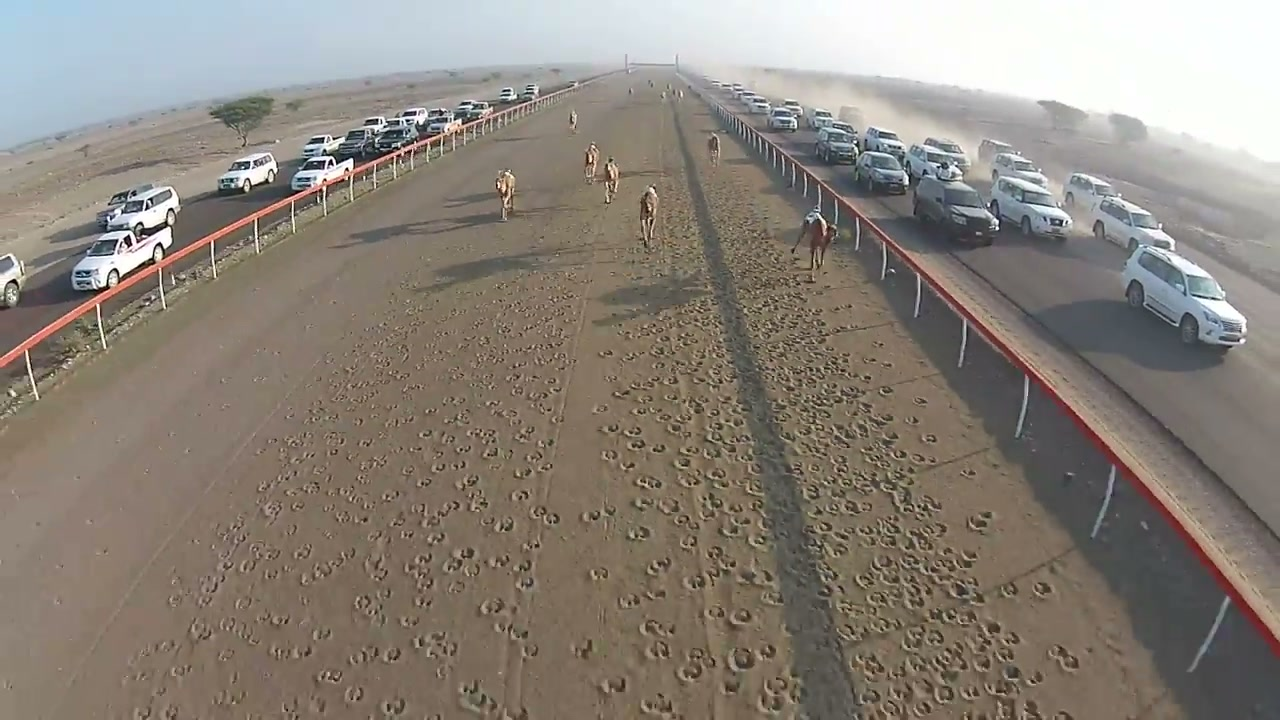animal_foot_print: (122, 102, 1172, 719)
